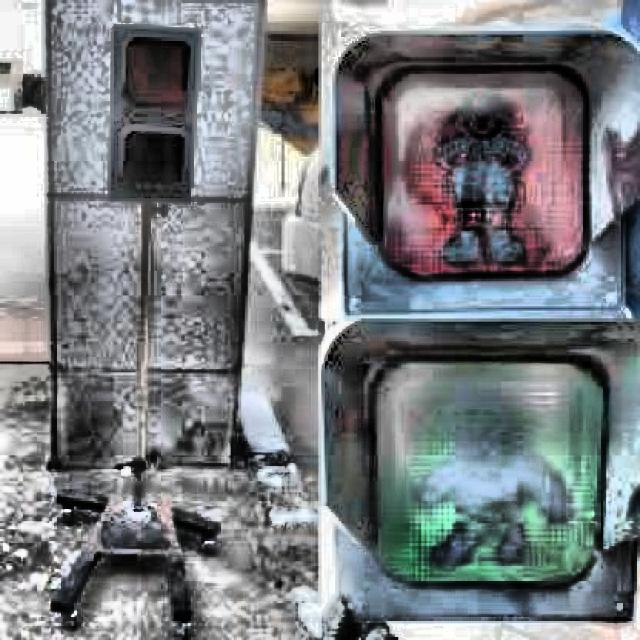semaforo pedestre: (221, 6, 640, 640)
